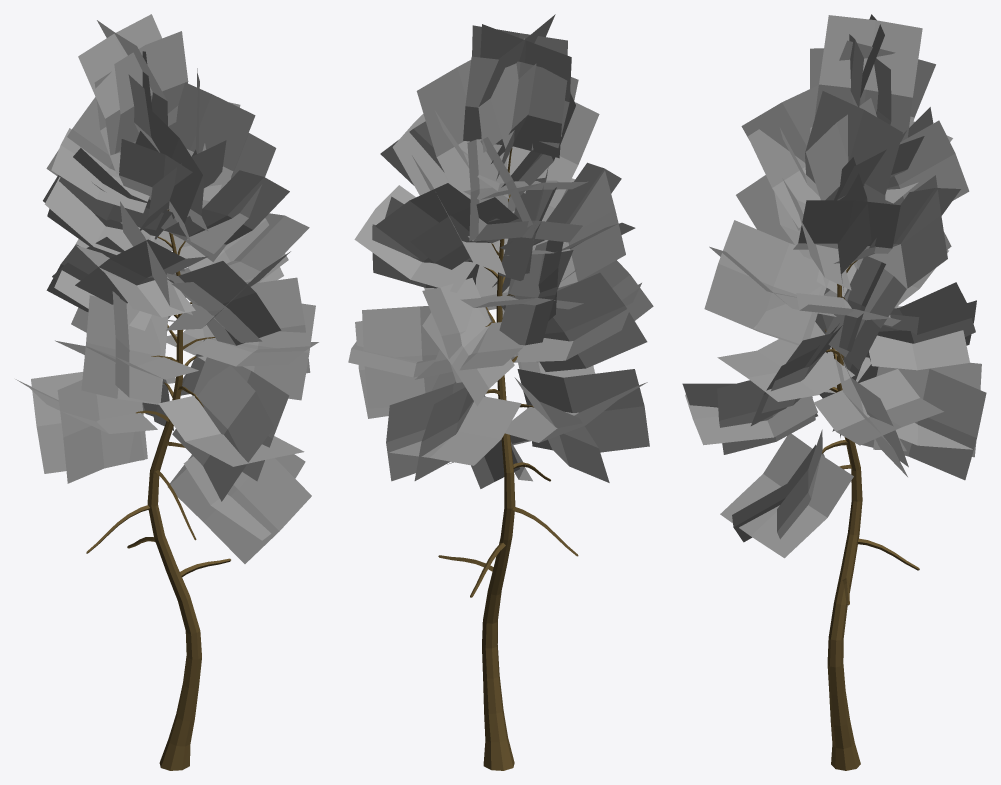
File: Tree_Fay_Pink5.fbx
The picture shows the model from 3 angles, left to right: view 1: azimuth 30°, elevation 25°; view 2: azimuth 150°, elevation 25°; view 3: azimuth 270°, elevation 25°; orthographic projection. The views are drawn at different scales.
Parts seen in each view (by area): view 1: Mesh; view 2: Mesh; view 3: Mesh.
Part boxes in pixels (bbox=[...]): Mesh: bbox=[15, 14, 318, 770]; Mesh: bbox=[348, 14, 653, 770]; Mesh: bbox=[682, 14, 986, 770].
Size of the model in its own units: 1758 by 4619 by 1750.
